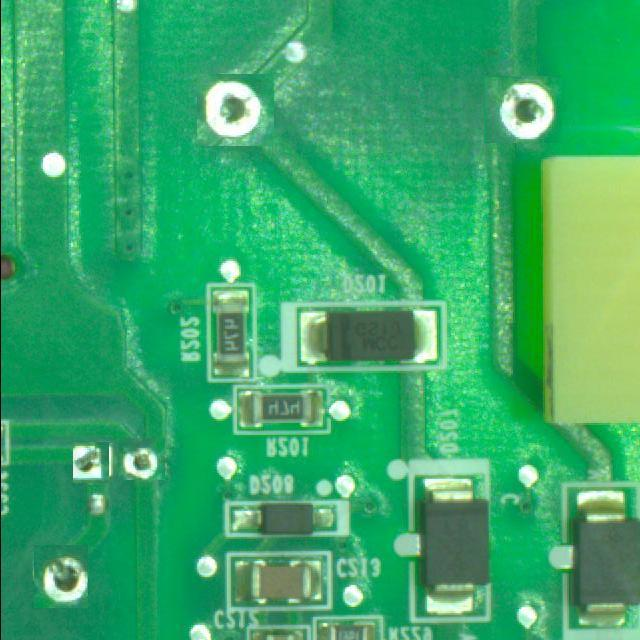lack_of_part: (196, 73, 274, 146), (484, 76, 562, 143), (34, 545, 88, 608), (120, 437, 164, 482), (72, 441, 109, 483)
